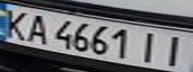1: (109, 26, 133, 60)
4: (48, 18, 75, 50)
6: (87, 24, 112, 56), (69, 20, 93, 53)
A: (21, 12, 51, 45)
I: (133, 29, 166, 64), (157, 33, 190, 66)
K: (0, 7, 33, 39)
